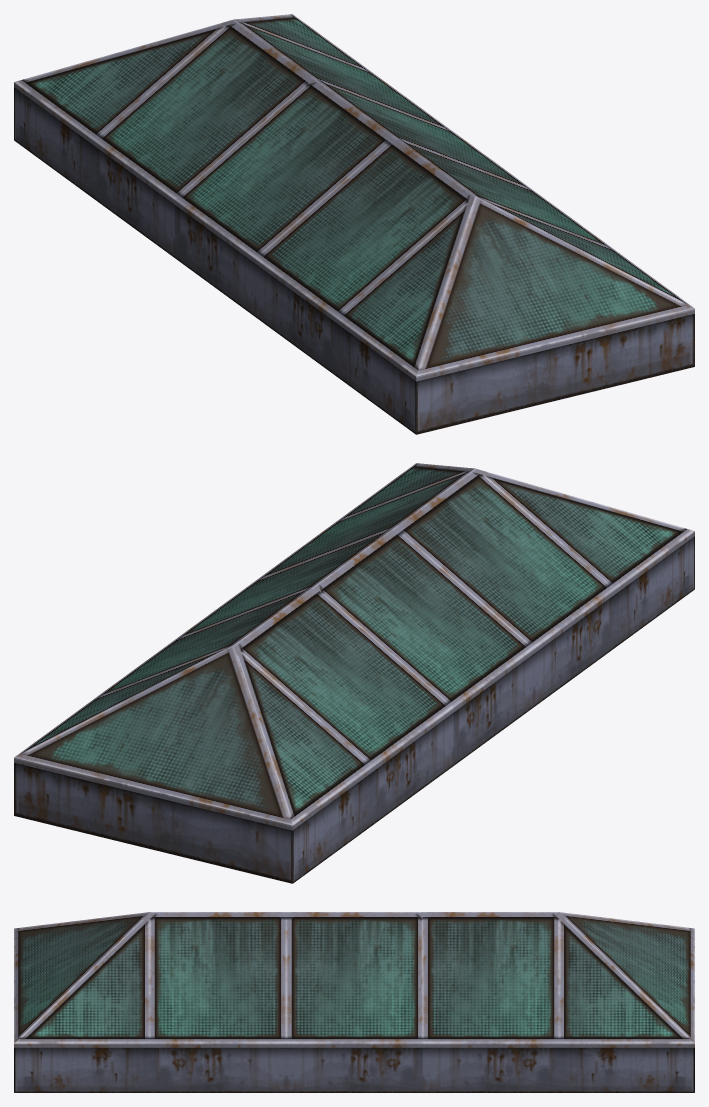
Rendered from skylight02.fbx.
3 renders of one model, top to bottom at view 1: azimuth 30°, elevation 25°; view 2: azimuth 150°, elevation 25°; view 3: azimuth 270°, elevation 25°, orthographic. The views are drawn at different scales.
Parts seen in each view (by area): view 1: skylight02; view 2: skylight02; view 3: skylight02.
Boxes of the visible parts, bbox=[...] form: skylight02: bbox=[14, 14, 694, 434]; skylight02: bbox=[14, 463, 694, 883]; skylight02: bbox=[14, 912, 694, 1092].
Bounding box in the file's own units: 200 × 100 × 500.
